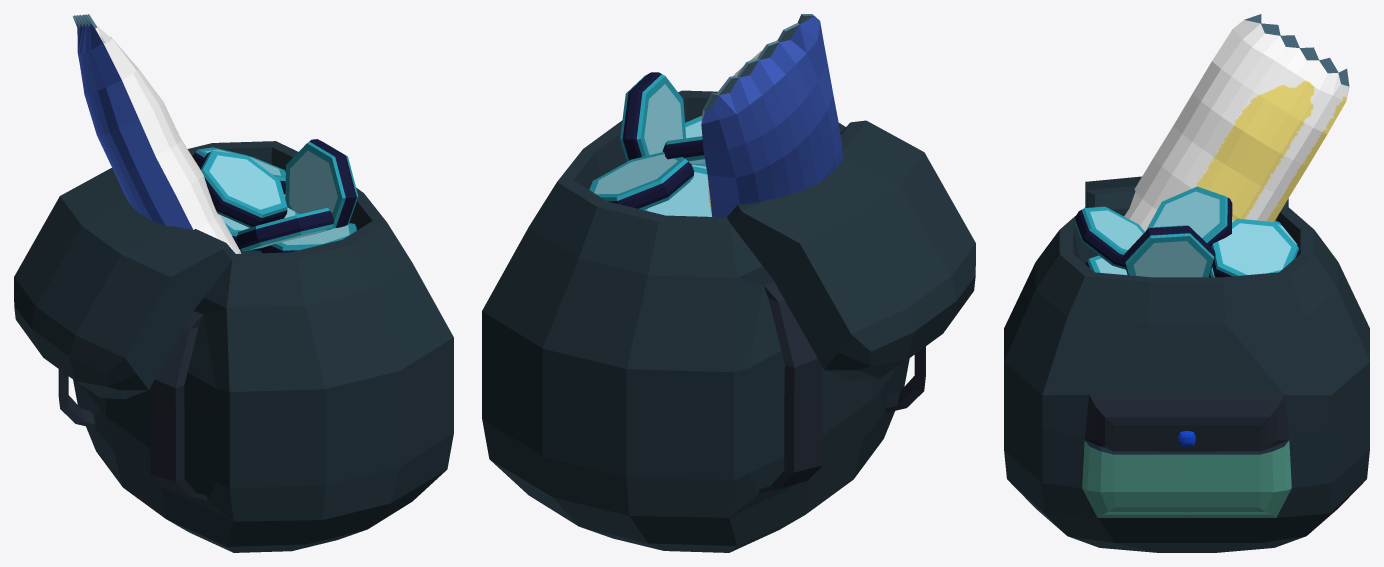
The model's file is Bag.BarBuckles.fbx.
3 views of the same model, side by side, from view 1: azimuth 30°, elevation 25°; view 2: azimuth 150°, elevation 25°; view 3: azimuth 270°, elevation 25° (orthographic). The views are drawn at different scales.
Visible parts, largest first — view 1: Bag.BarBuckles; view 2: Bag.BarBuckles; view 3: Bag.BarBuckles.
Boxes of the visible parts, box(x1,y1,x2,y2) form: Bag.BarBuckles: box(14, 14, 453, 552); Bag.BarBuckles: box(482, 14, 975, 552); Bag.BarBuckles: box(1004, 14, 1369, 552).
Size of the model in its own units: 70.39 by 92.87 by 68.84.
